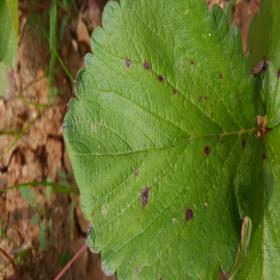Leaf Spot: (61, 0, 262, 279), (227, 127, 280, 279), (245, 0, 279, 128)
